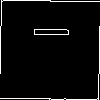I: (24, 24, 70, 40)
